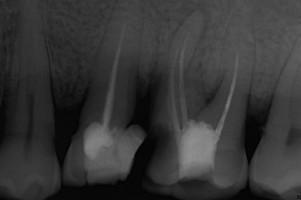Endo-Periodontal Lesion: (204, 77, 224, 106)
